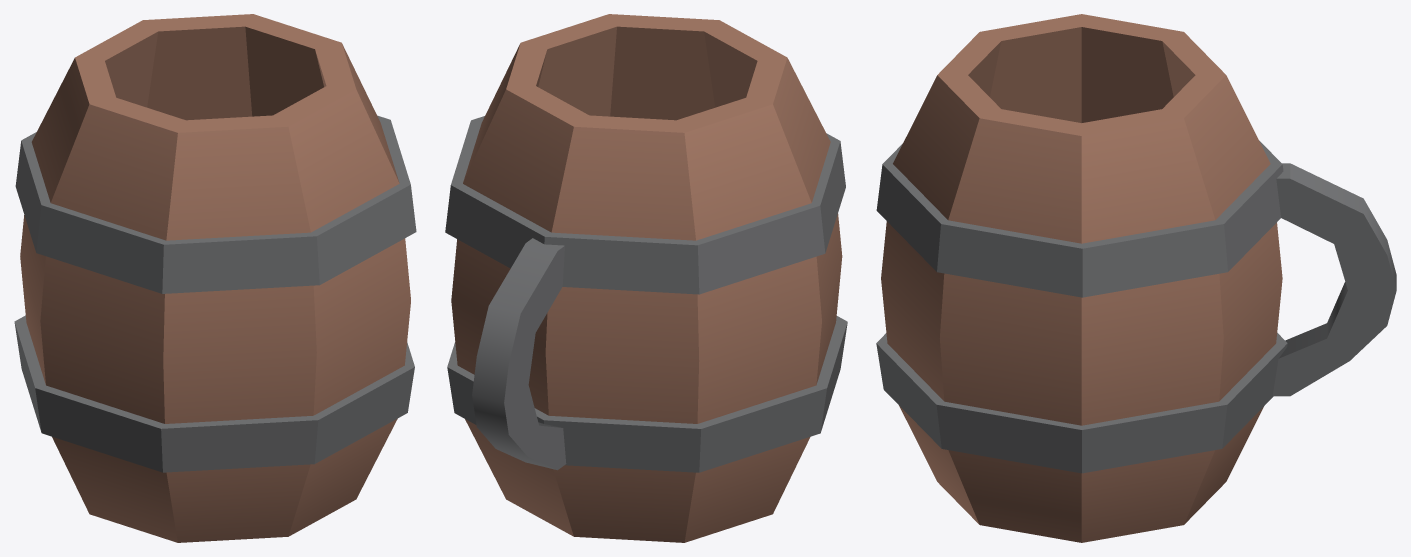
Rendered from mug.fbx.
The picture shows the model from 3 angles, left to right: view 1: azimuth 30°, elevation 25°; view 2: azimuth 150°, elevation 25°; view 3: azimuth 270°, elevation 25°; orthographic projection.
Visible parts, largest first — view 1: pCube221; view 2: pCube221; view 3: pCube221.
Boxes of the visible parts, x1,y1,x2,y2 form: pCube221: (14,14,416,542); pCube221: (445,14,847,542); pCube221: (876,14,1396,542).
Bounding box in the file's own units: 0.1971 × 0.214 × 0.2481.
